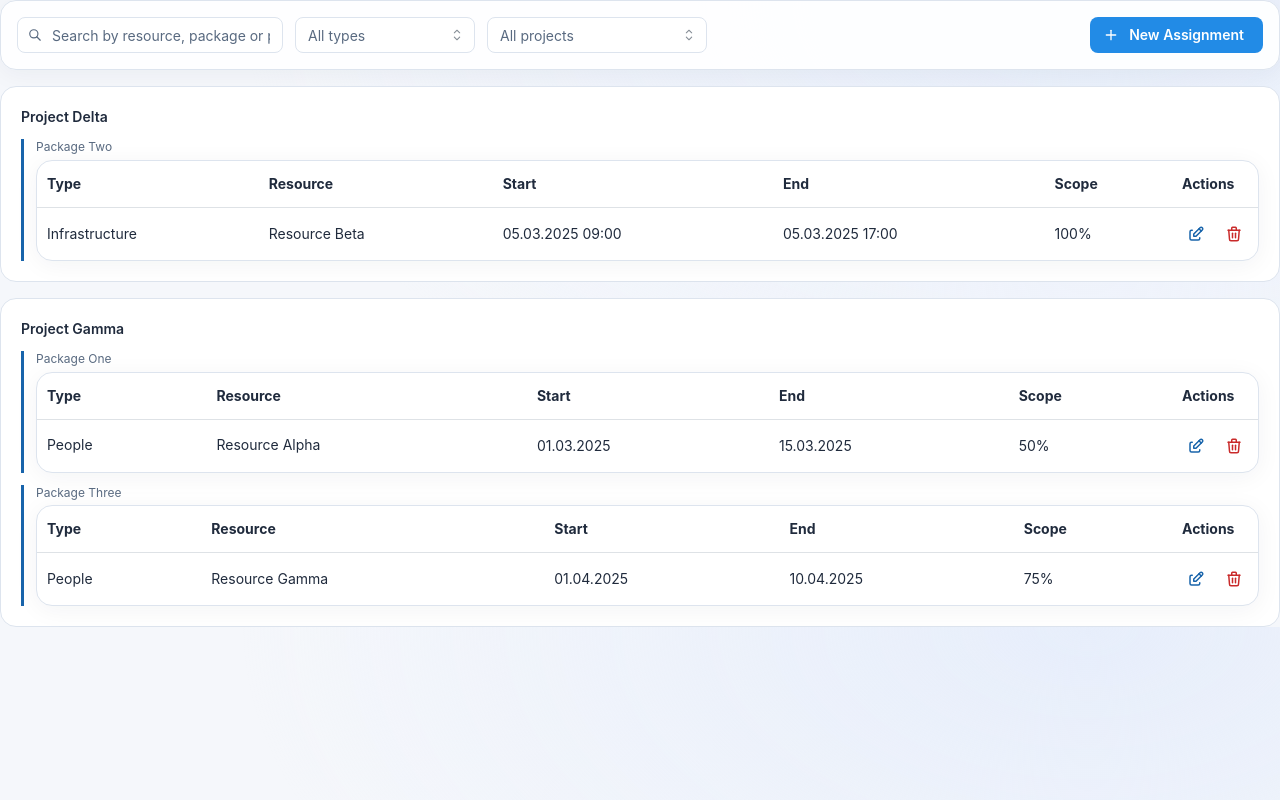
Test: AssignmentsPanel › Filtering by type (Requirement 5.3) › shows only personal assignments when personal type is selected
Expected: the text "Resource Alpha" is shown, top-left (216, 435), bottom-right (320, 456)
# Click the type filter select to open dropdown
Click the dropdown with placeholder "All types": {"x": 385, "y": 35} top-left (295, 17), bottom-right (475, 53)
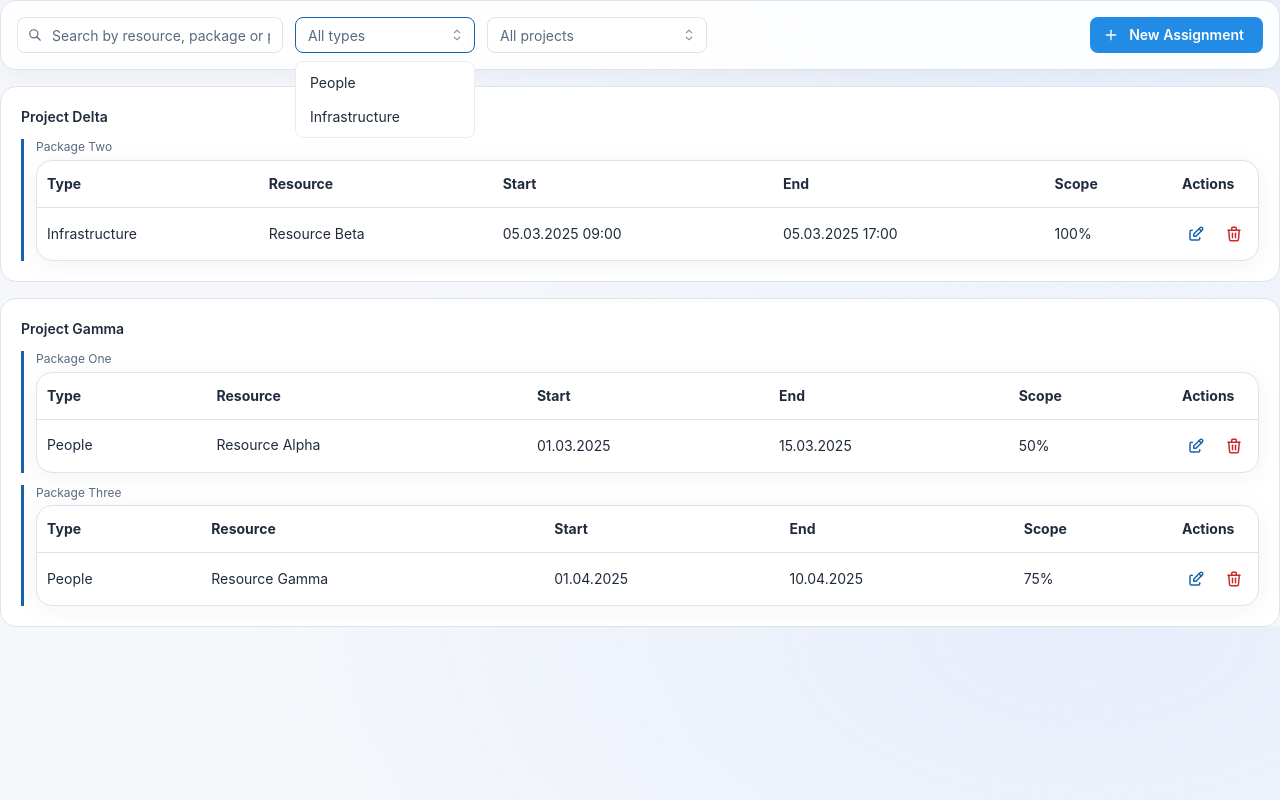
Click the option "People": {"x": 333, "y": 82} top-left (310, 74), bottom-right (356, 91)
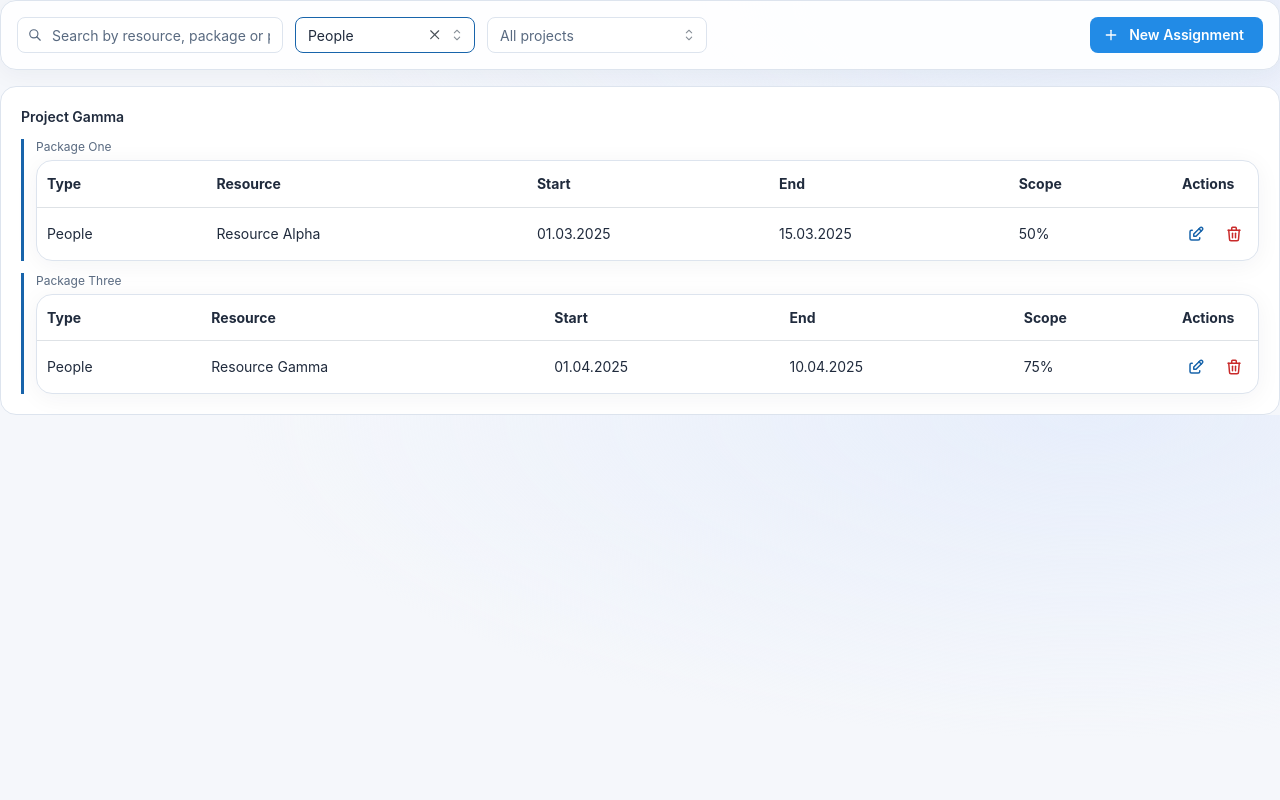
Expected: the text "Resource Alpha" is shown, top-left (216, 224), bottom-right (320, 244)
Expected: the text "Resource Beta" is gone
